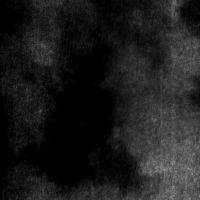patches: (36, 38, 128, 189), (95, 41, 200, 147), (176, 1, 200, 38)
